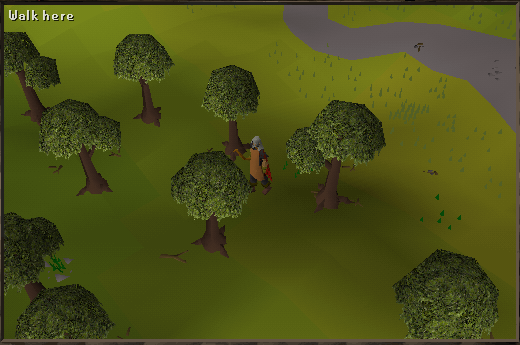Tree: (300, 92, 366, 212), (39, 91, 100, 199), (181, 152, 246, 248), (116, 32, 177, 133), (205, 63, 254, 149), (1, 28, 45, 116)
